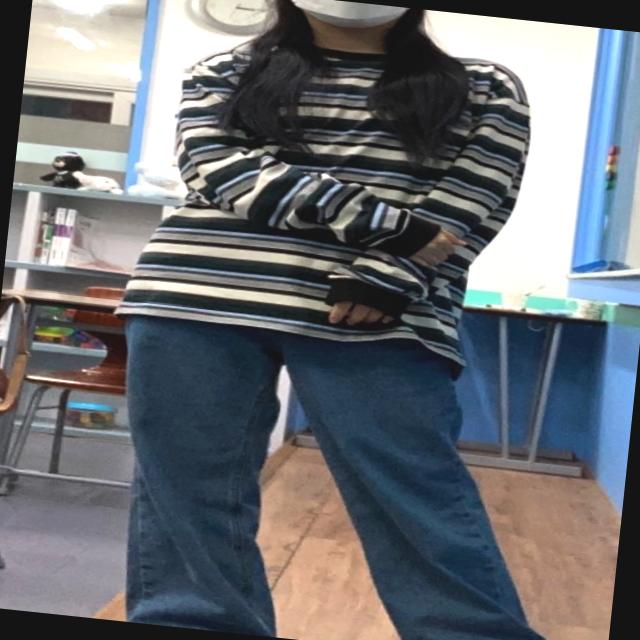denimpants: (91, 295, 582, 640)
longsleeve: (128, 24, 538, 360)
